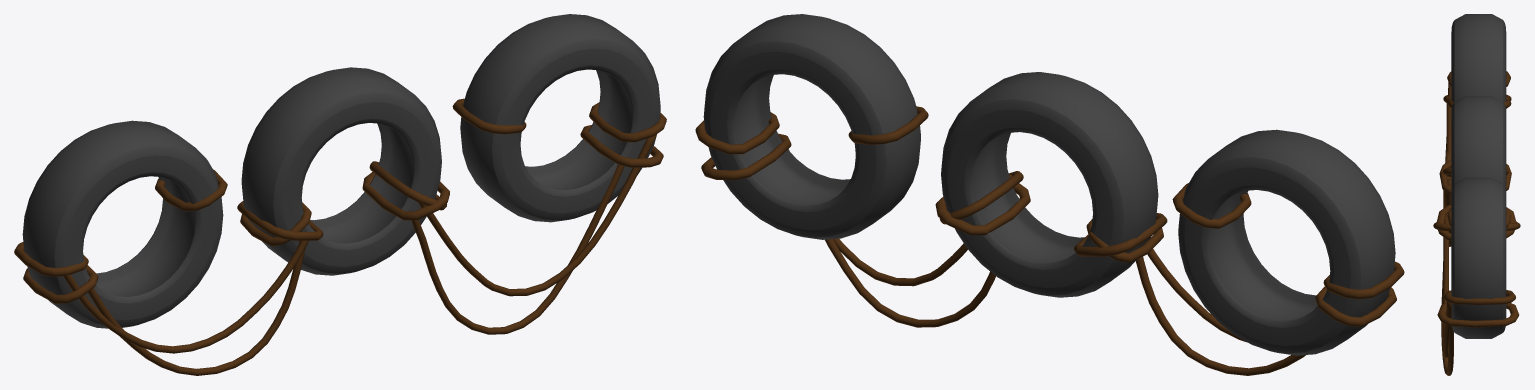
The model's file is Tires-M00A.fbx.
3 views of the same model, side by side, from view 1: azimuth 30°, elevation 25°; view 2: azimuth 150°, elevation 25°; view 3: azimuth 270°, elevation 25° (orthographic). The views are drawn at different scales.
Visible parts, largest first — view 1: Tires-M00A; view 2: Tires-M00A; view 3: Tires-M00A.
Part boxes in pixels (left/top/right/bottom): Tires-M00A: left=14, top=14, right=666, bottom=375; Tires-M00A: left=695, top=14, right=1404, bottom=375; Tires-M00A: left=1433, top=14, right=1520, bottom=375.
Bounding box in the file's own units: 206 × 86.6 × 32.31.
